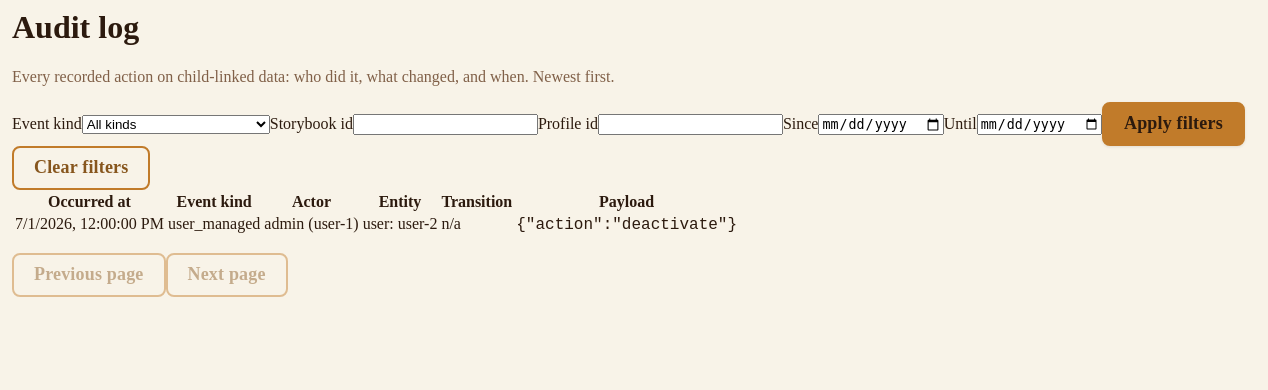
Scenario: AuditPage › shows a refresh-error banner without discarding the last-good page on a refetch failure
Expected: the text "user_managed" is shown, [167,214,261,235]
Select "book_assigned" in the dropdown named "filter by event kind" at (176, 125), box [82,115,270,134]
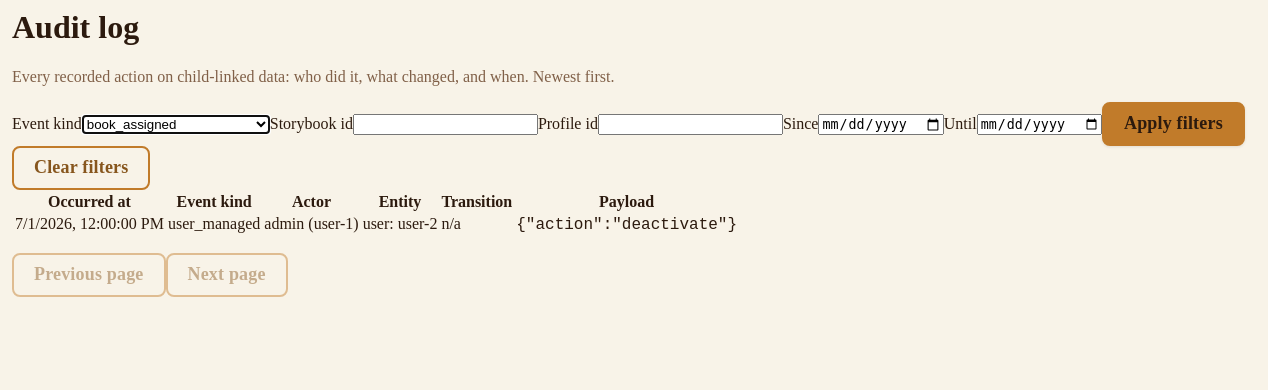
Click the button "Apply filters" at (1173, 124), box [1102,102,1245,146]
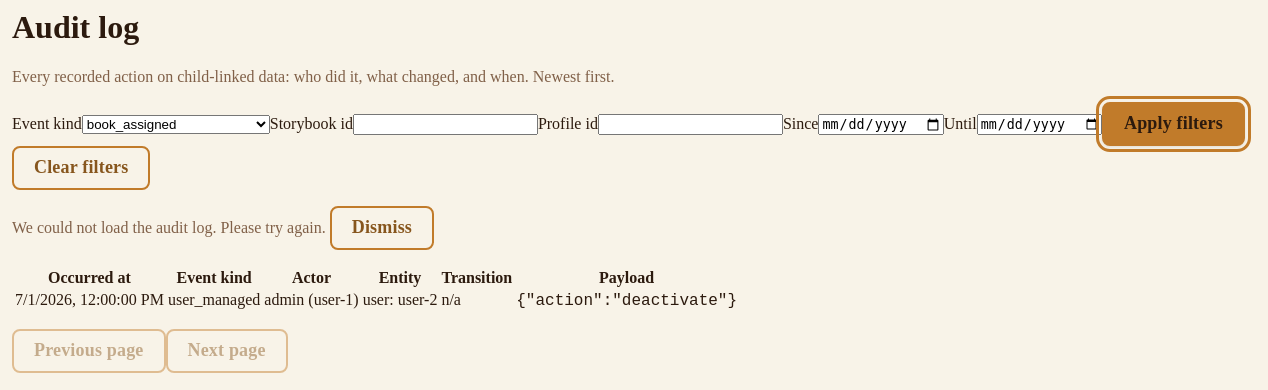
Expected: the text "user_managed" is shown, [167,290,261,311]
Expected: the message shows "could not load", [12,219,326,236]
Click the button "Dismiss" at (382, 228), box [330,206,434,250]
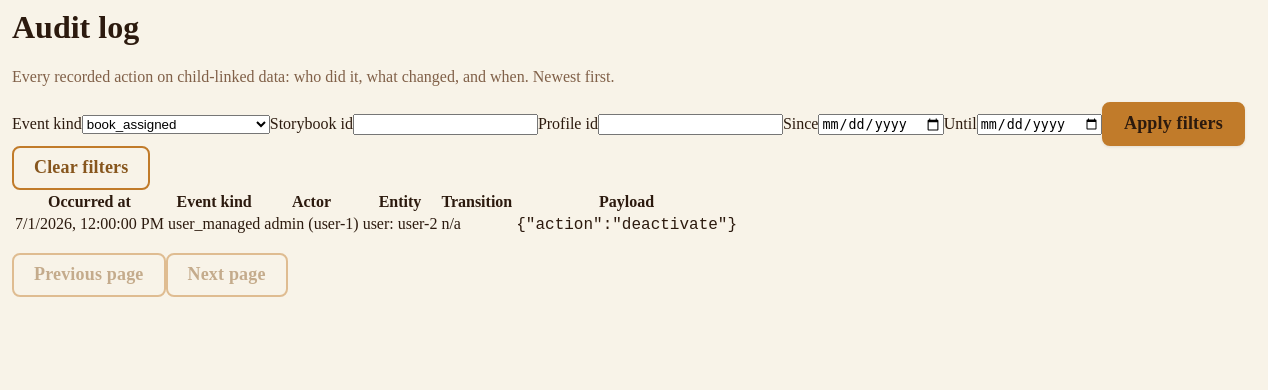
Expected: the message "We could not load the audit log. Please try again. Dismiss" is gone
